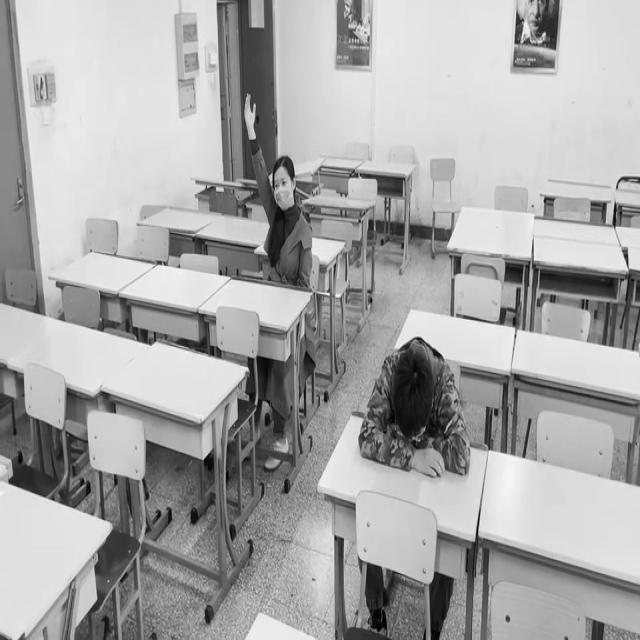sleep: (360, 338, 469, 473)
study: (243, 93, 312, 281)
